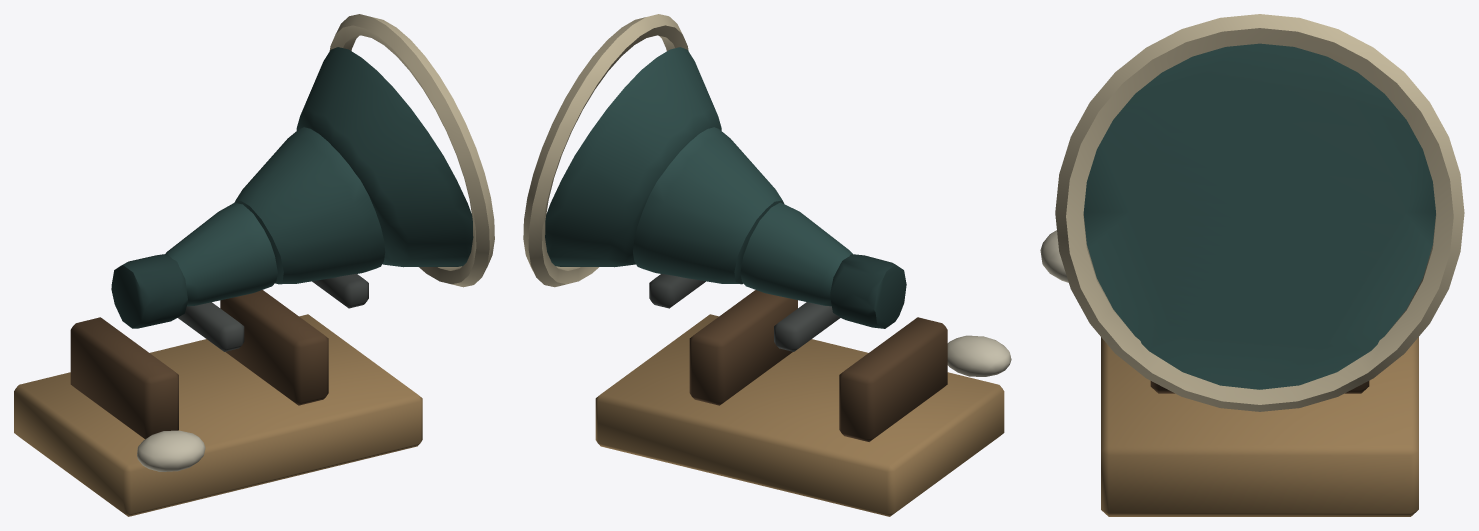
The model's file is echo_horn_a_lod1.glb.
The picture shows the model from 3 angles, left to right: view 1: azimuth 30°, elevation 25°; view 2: azimuth 150°, elevation 25°; view 3: azimuth 270°, elevation 25°; orthographic projection. The views are drawn at different scales.
Visible parts, largest first — view 1: Surface.001; view 2: Surface.001; view 3: Surface.001.
Boxes of the visible parts, x1,y1,x2,y2 form: Surface.001: (14, 14, 494, 516); Surface.001: (523, 14, 1011, 516); Surface.001: (1040, 14, 1464, 516).
Bounding box in the file's own units: 3.02 × 2.88 × 2.13.
